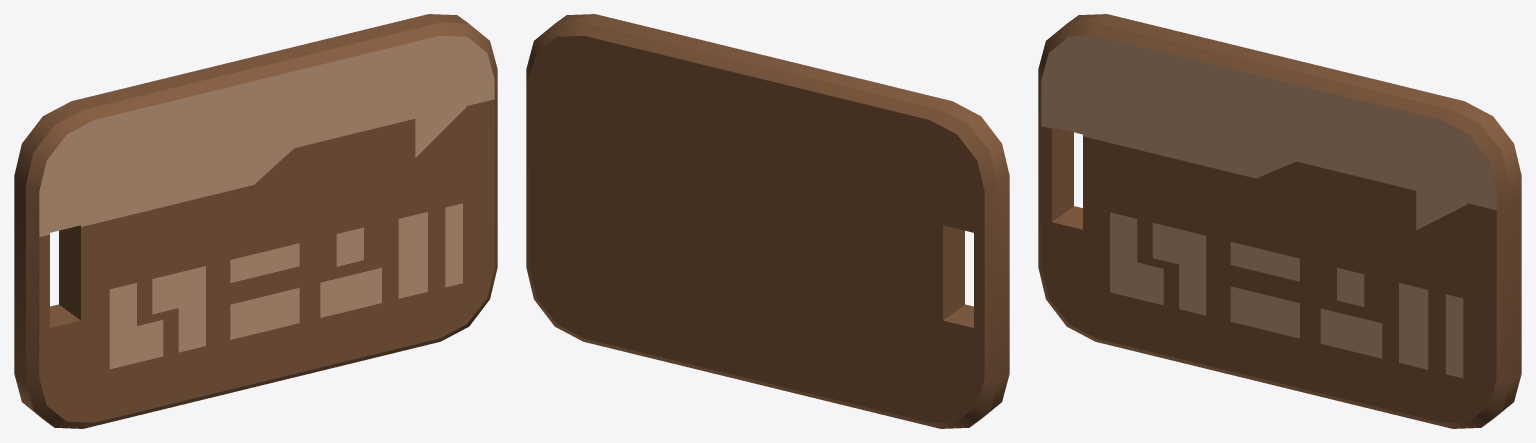
File: quaternius-ultimate-space-pickup-keycard.glb
The picture shows the model from 3 angles, left to right: view 1: azimuth 30°, elevation 25°; view 2: azimuth 150°, elevation 25°; view 3: azimuth 330°, elevation 25°; orthographic projection.
Visible parts, largest first — view 1: Pickup_KeyCard; view 2: Pickup_KeyCard; view 3: Pickup_KeyCard.
Boxes of the visible parts, x1=… form: Pickup_KeyCard: x1=14, y1=14, x2=497, y2=428; Pickup_KeyCard: x1=526, y1=14, x2=1009, y2=428; Pickup_KeyCard: x1=1038, y1=14, x2=1521, y2=428.
Size of the model in its own units: 1.04 by 0.674 by 0.0876.
Materials: 1 (1 with a texture image).
